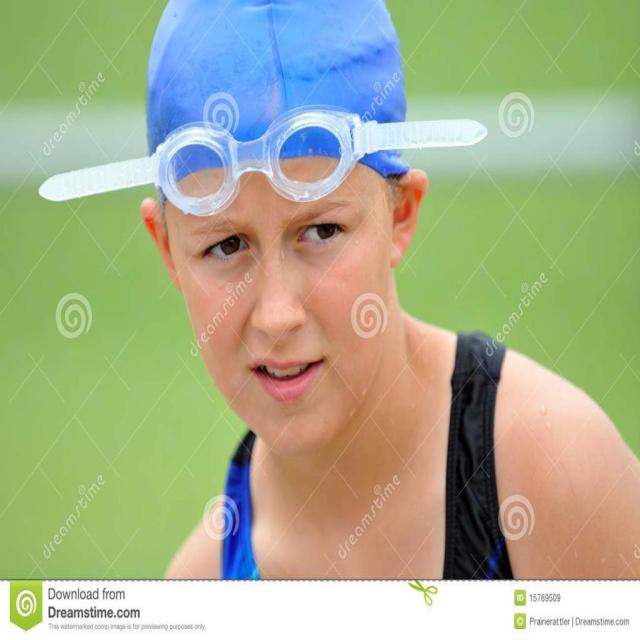Face: (174, 125, 424, 464)
